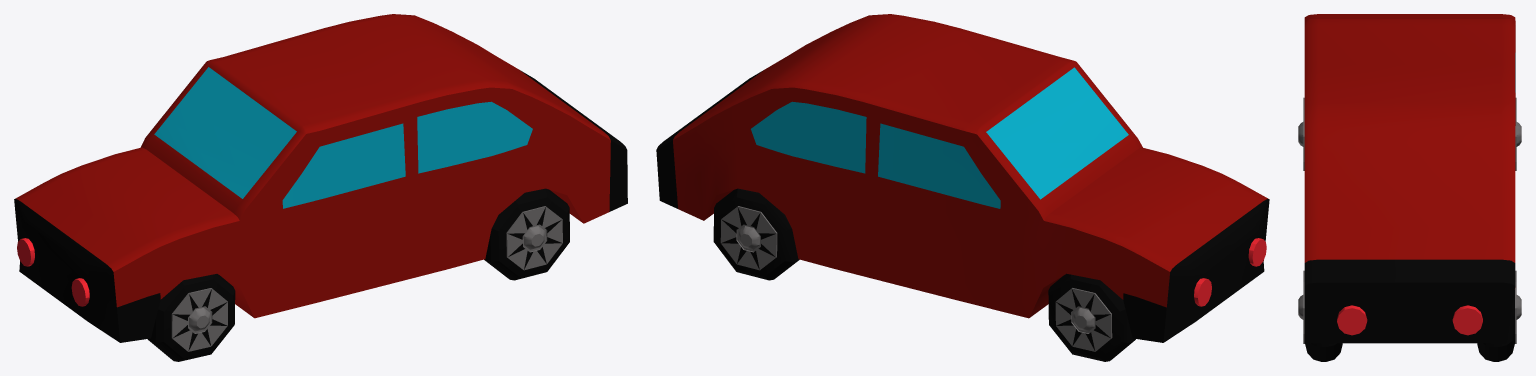
File: auto.fbx
The picture shows the model from 3 angles, left to right: view 1: azimuth 30°, elevation 25°; view 2: azimuth 150°, elevation 25°; view 3: azimuth 270°, elevation 25°; orthographic projection. The views are drawn at different scales.
Parts seen in each view (by area): view 1: auto; view 2: auto; view 3: auto.
Boxes of the visible parts, x1,y1,x2,y2 form: auto: (14, 14, 627, 361); auto: (656, 14, 1269, 361); auto: (1298, 14, 1521, 361).
Size of the model in its own units: 0.3936 by 0.149 by 0.1354.
